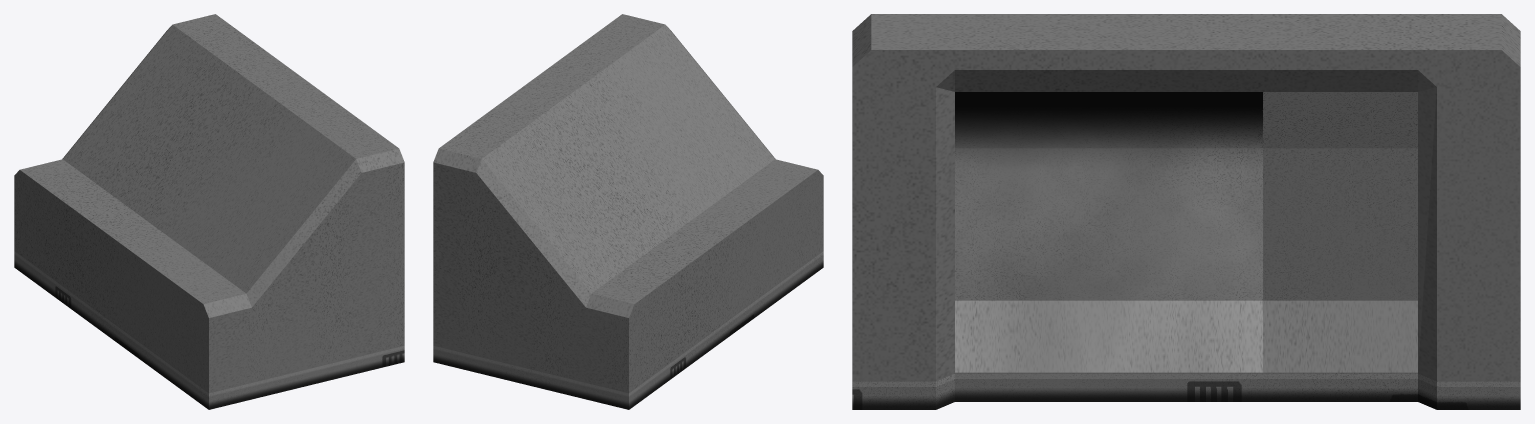
File: Subwayentrancething.FBX
3 renders of one model, left to right at view 1: azimuth 30°, elevation 25°; view 2: azimuth 150°, elevation 25°; view 3: azimuth 270°, elevation 25°, orthographic. The views are drawn at different scales.
Parts seen in each view (by area): view 1: Market; view 2: Market; view 3: Market.
Boxes of the visible parts, x1,y1,x2,y2 form: Market: (14,14,404,409); Market: (433,14,823,409); Market: (852,14,1520,409).
Bounding box in the file's own units: 1.85 × 3.19 × 1.9.
Materials: 1 (1 with a texture image).
